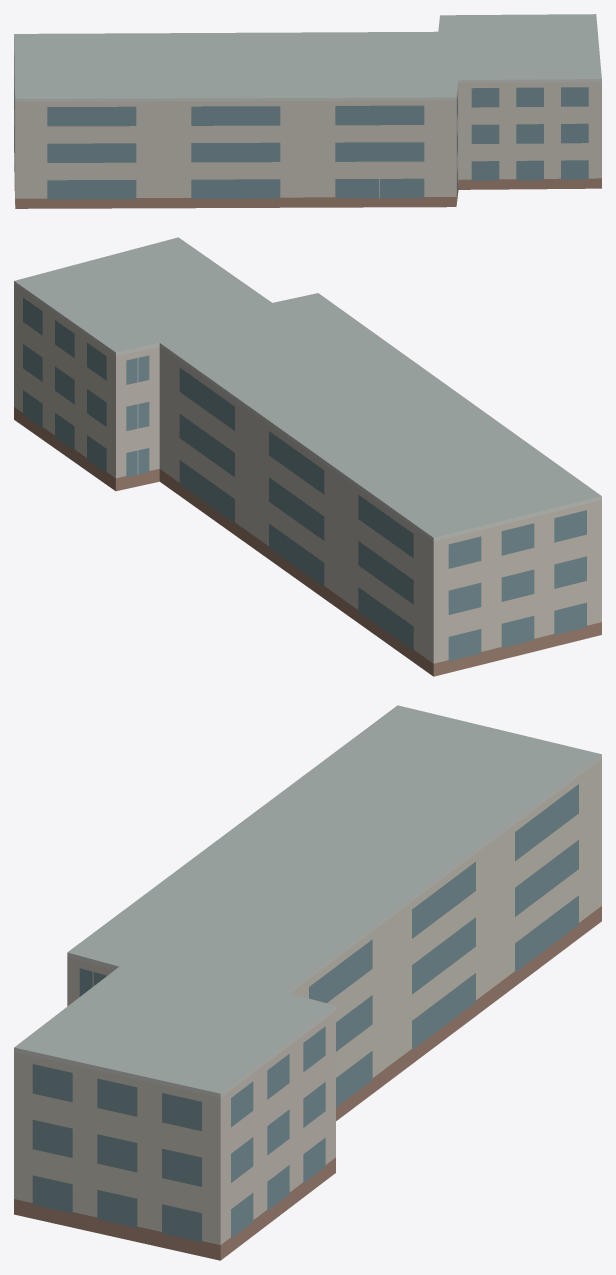
Rendered from survey-upis-32946378.glb.
The picture shows the model from 3 angles, top to bottom: view 1: azimuth 30°, elevation 25°; view 2: azimuth 150°, elevation 25°; view 3: azimuth 270°, elevation 25°; orthographic projection. The views are drawn at different scales.
Visible parts, largest first — view 1: survey-upis-32946378.tmp; view 2: survey-upis-32946378.tmp; view 3: survey-upis-32946378.tmp.
Boxes of the visible parts, bbox=[...] form: survey-upis-32946378.tmp: bbox=[14, 14, 601, 208]; survey-upis-32946378.tmp: bbox=[14, 237, 601, 676]; survey-upis-32946378.tmp: bbox=[14, 705, 601, 1260].
Size of the model in its own units: 45.65 by 9.15 by 29.2.
